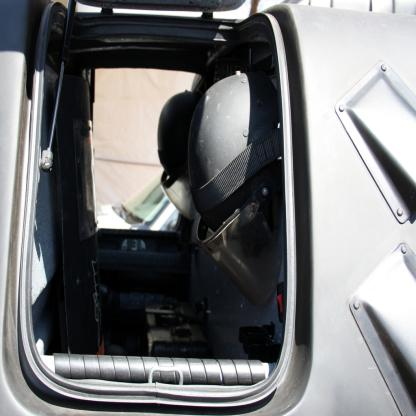Helmet: (145, 42, 306, 308)
